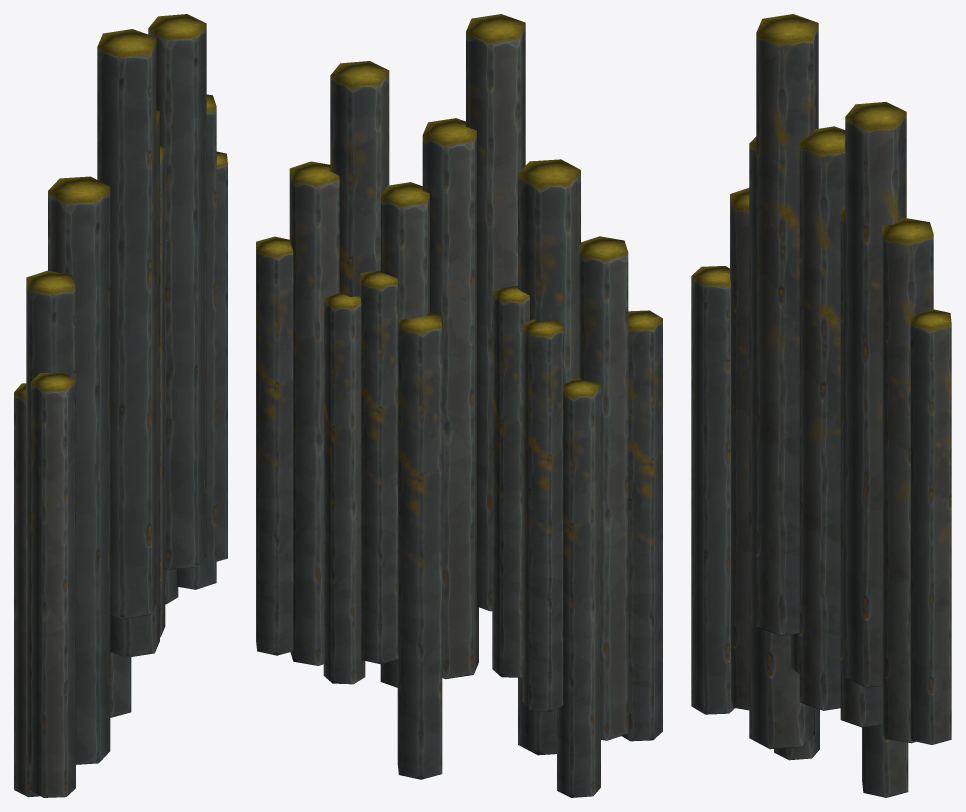
File: SM_Pillar_Merged_01.glb
The picture shows the model from 3 angles, left to right: view 1: azimuth 30°, elevation 25°; view 2: azimuth 150°, elevation 25°; view 3: azimuth 270°, elevation 25°; orthographic projection. The views are drawn at different scales.
Parts seen in each view (by area): view 1: SM_Pillar_Merged_01; view 2: SM_Pillar_Merged_01; view 3: SM_Pillar_Merged_01.
Boxes of the visible parts, x1=… form: SM_Pillar_Merged_01: x1=14, y1=14, x2=227, y2=797; SM_Pillar_Merged_01: x1=256, y1=14, x2=662, y2=797; SM_Pillar_Merged_01: x1=691, y1=14, x2=951, y2=797.
Size of the model in its own units: 10.83 by 25.61 by 7.87.
Materials: 1 (1 with a texture image).
